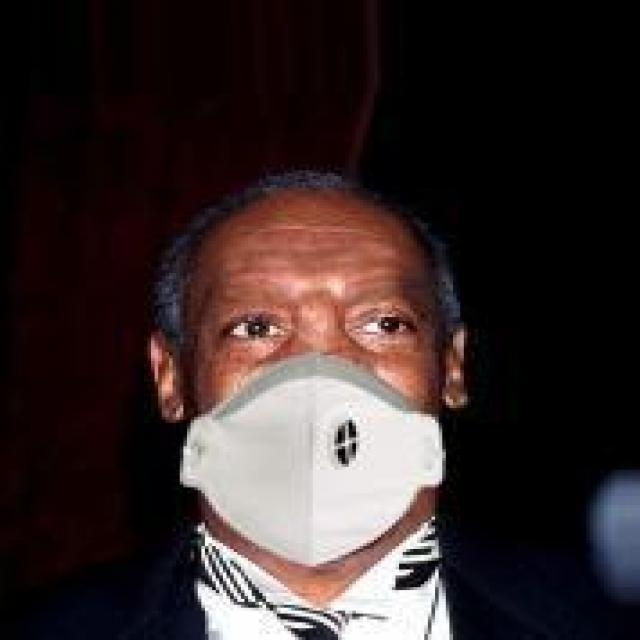mask: (133, 91, 485, 561)
